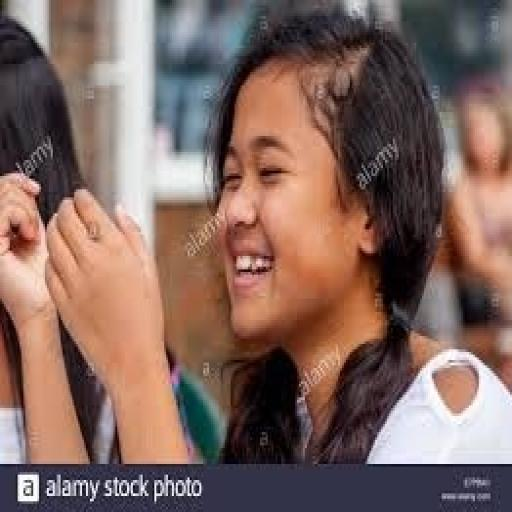laughing: (0, 3, 510, 464)
